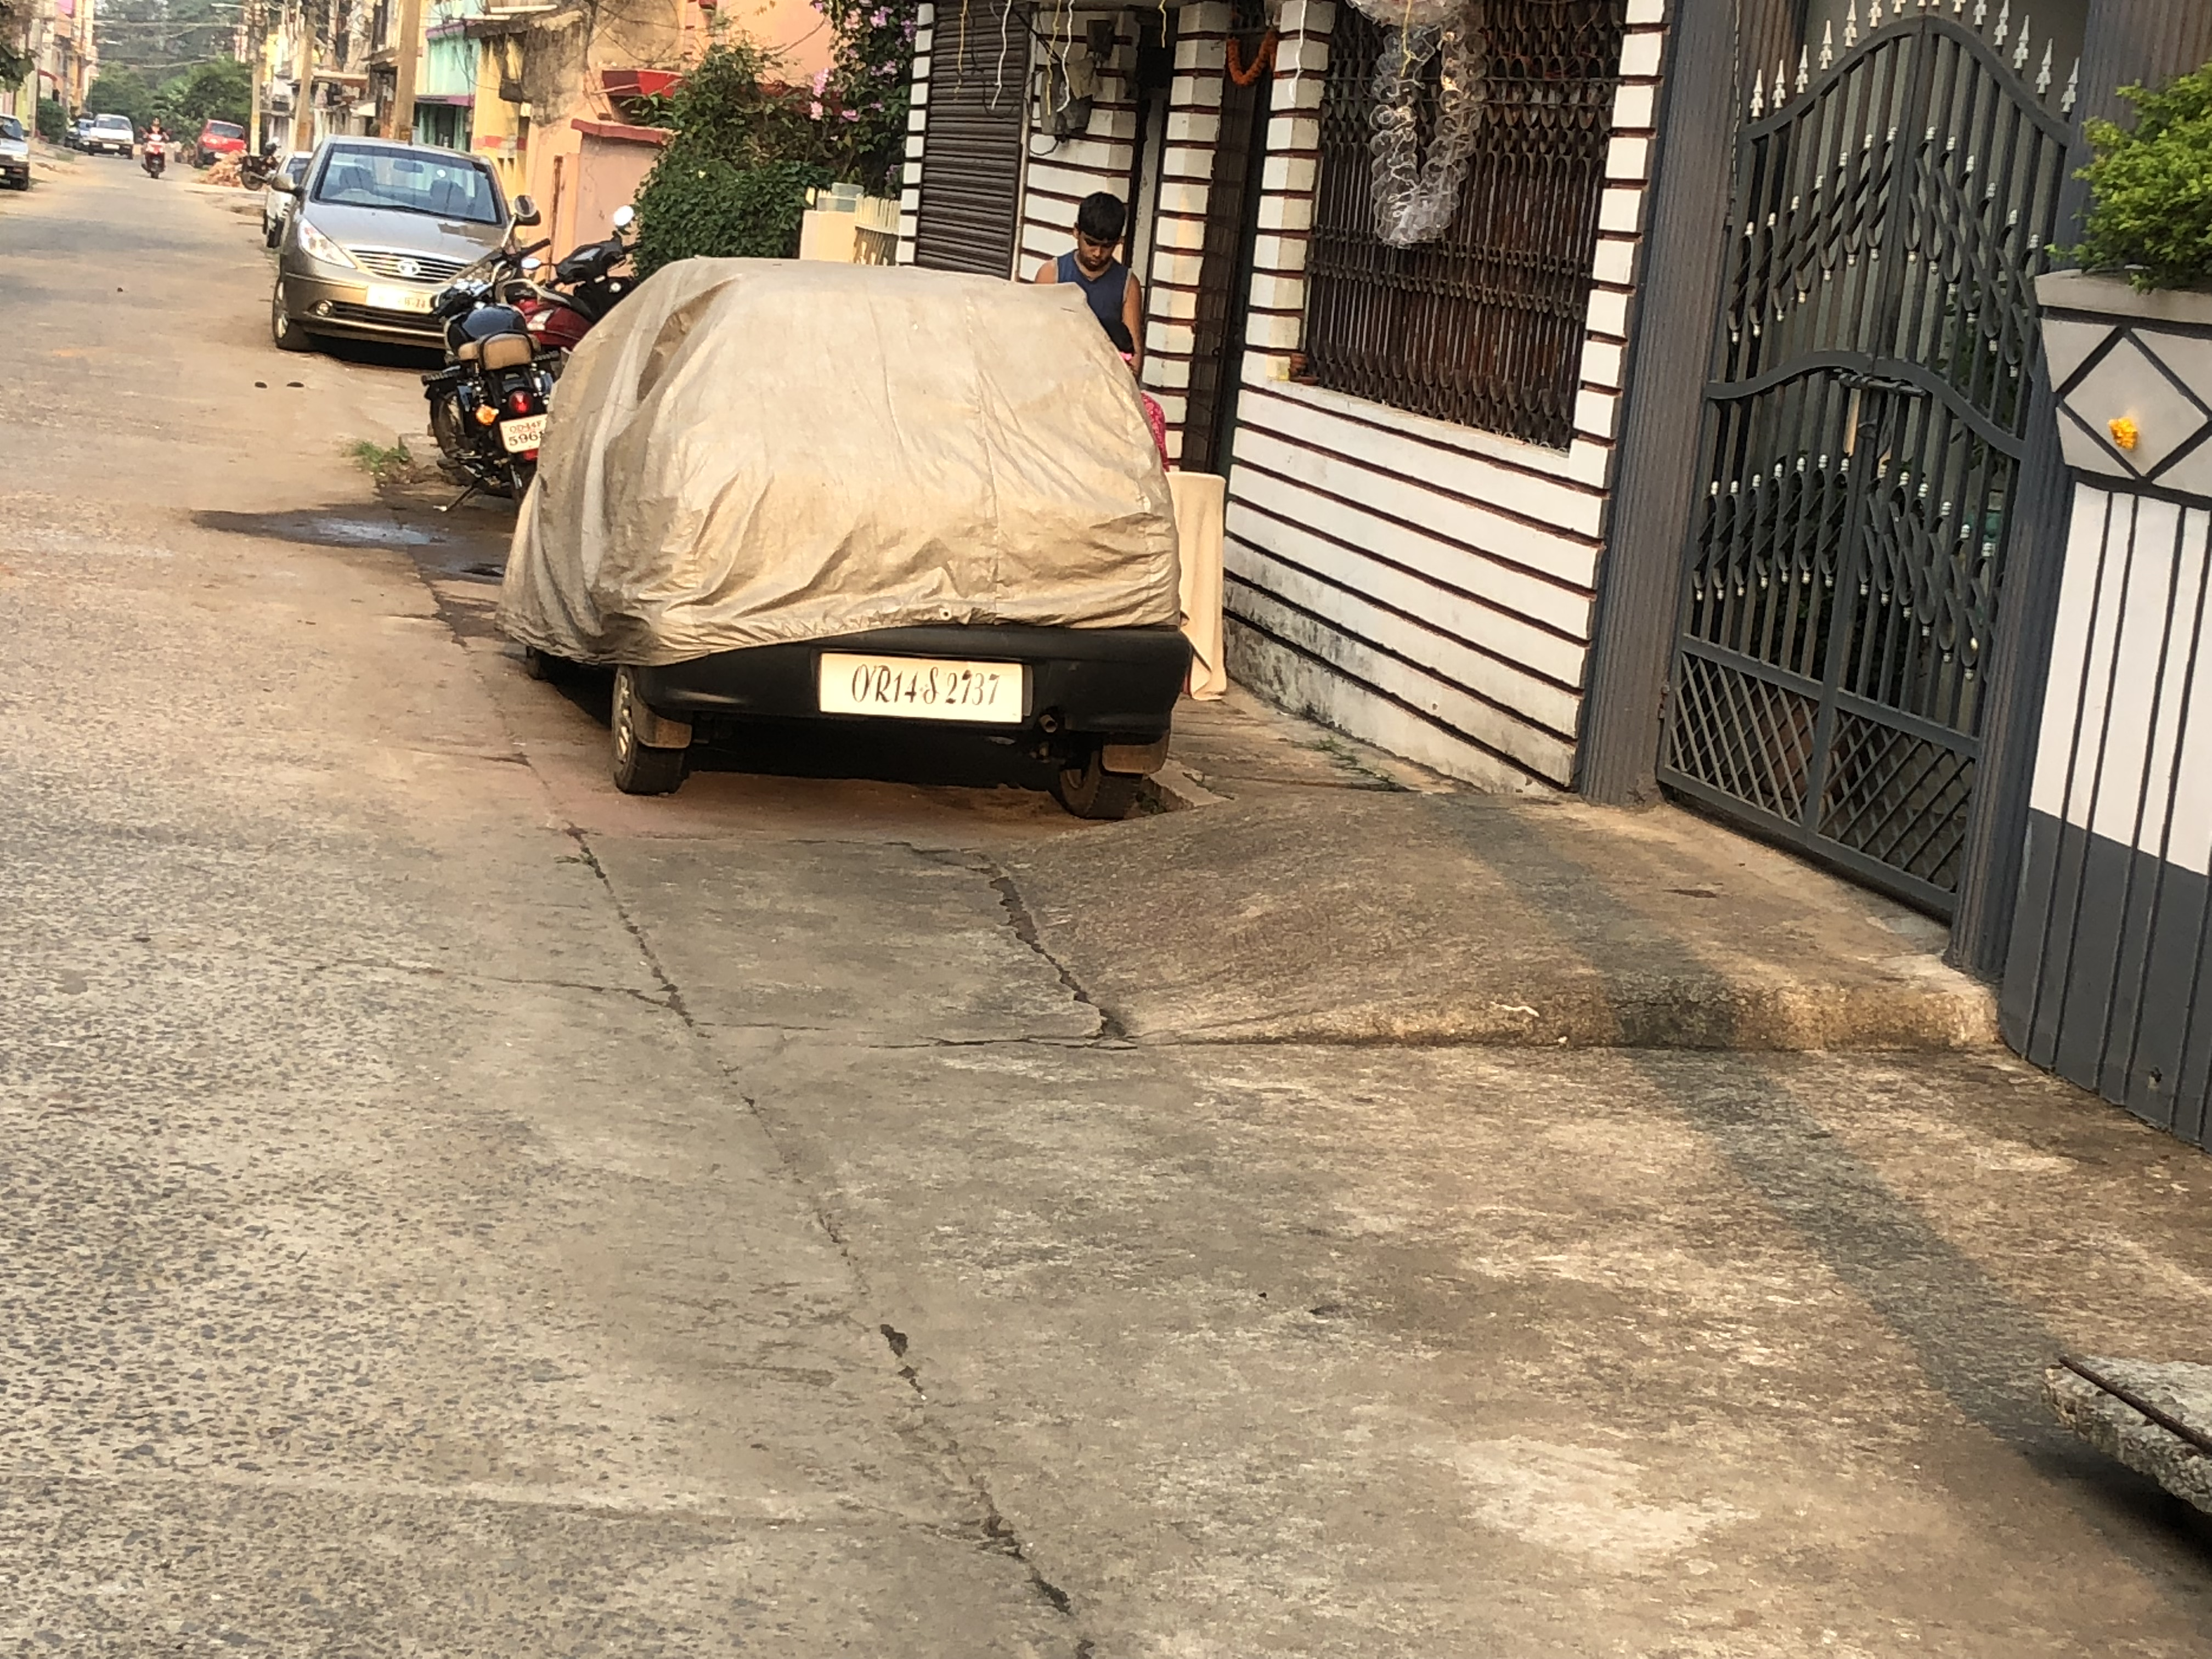licenseplate: (814, 642, 1035, 741)
